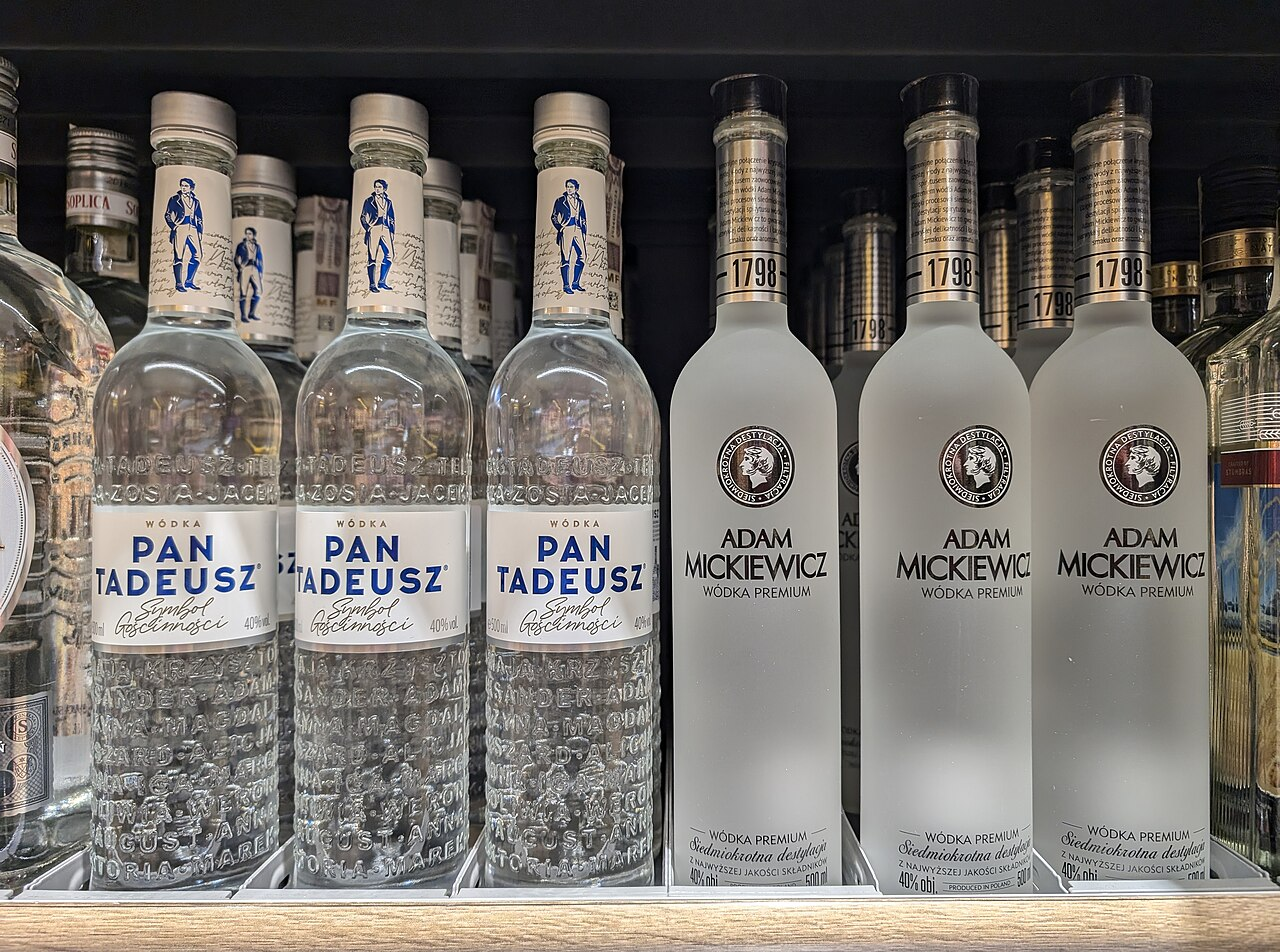unknown_bottle: (86, 87, 285, 895), (1028, 75, 1215, 895), (289, 92, 477, 893), (857, 72, 1034, 898), (480, 91, 663, 889), (668, 70, 845, 891), (0, 55, 115, 886), (1204, 283, 1279, 878)
